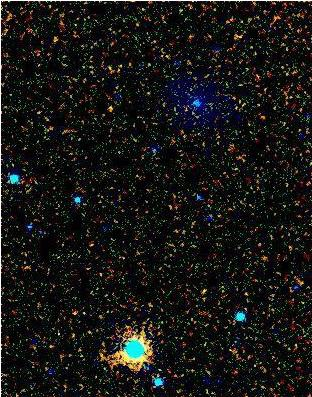star: (96, 93, 126, 123)
